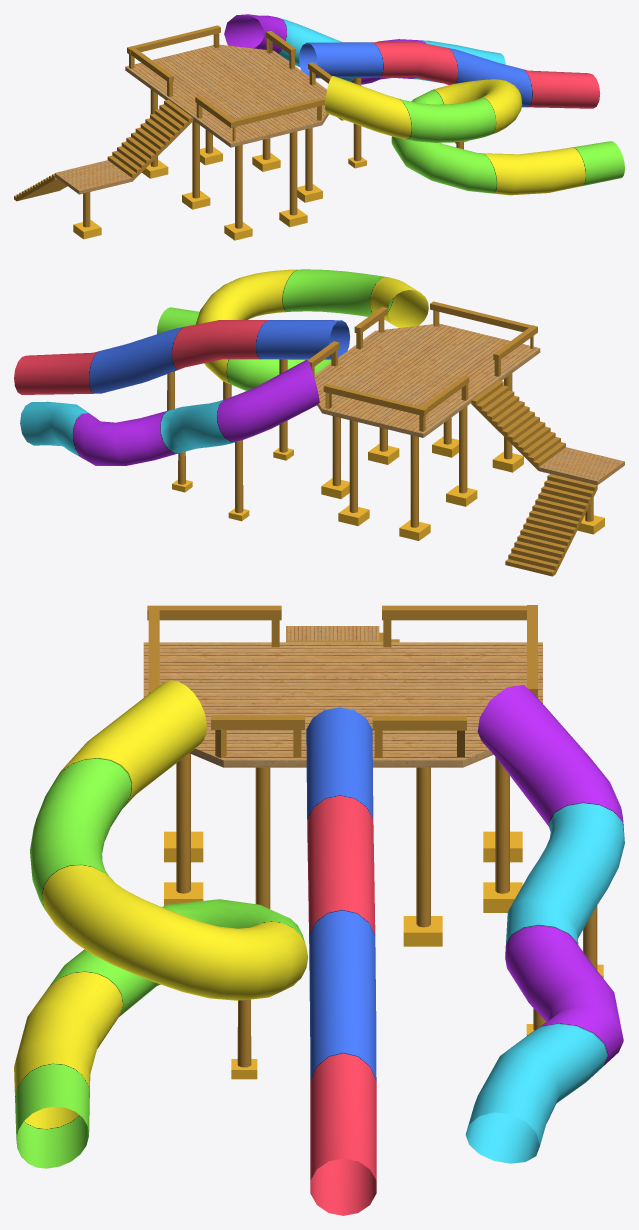
Rendered from ETC0210017.fbx.
3 views of the same model, one above another, from view 1: azimuth 30°, elevation 25°; view 2: azimuth 150°, elevation 25°; view 3: azimuth 270°, elevation 25° (orthographic). The views are drawn at different scales.
Visible parts, largest first — view 1: smETC0210017; view 2: smETC0210017; view 3: smETC0210017.
Part boxes in pixels (left/top/right/bottom): smETC0210017: left=14, top=14, right=624, bottom=240; smETC0210017: left=14, top=269, right=624, bottom=576; smETC0210017: left=14, top=605, right=624, bottom=1215.
Bounding box in the file's own units: 2546 × 625 × 1347.
Materials: 1 (1 with a texture image).
